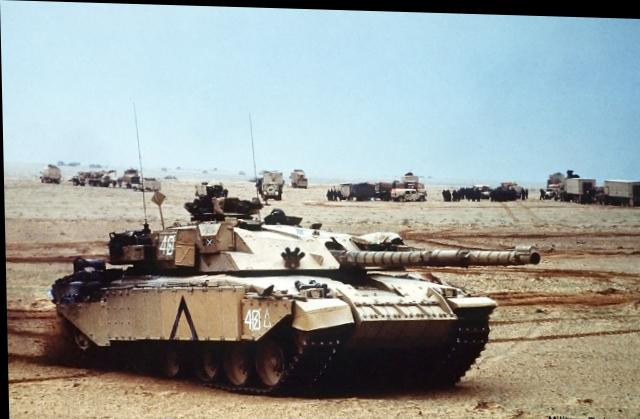tank: (37, 174, 501, 403)
